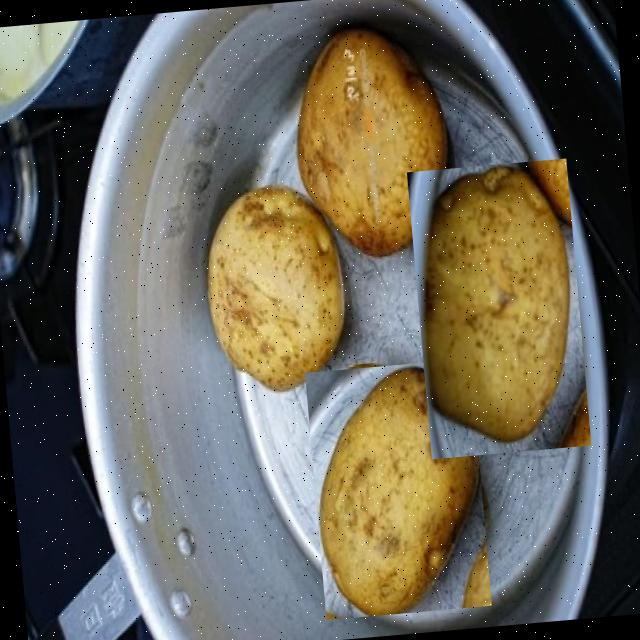Potato: (406, 158, 590, 459), (304, 358, 491, 620), (284, 19, 452, 258), (190, 177, 352, 396)
